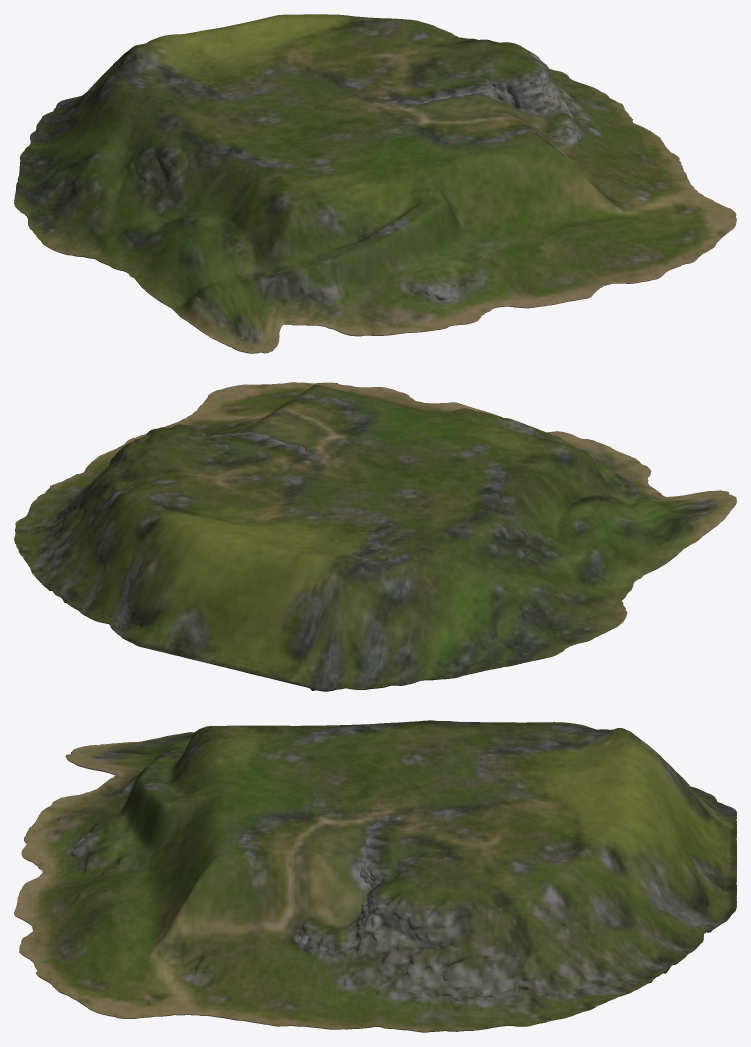
3 views of the same model, one above another, from view 1: azimuth 30°, elevation 25°; view 2: azimuth 150°, elevation 25°; view 3: azimuth 270°, elevation 25° (orthographic). The views are drawn at different scales.
Visible parts, largest first — view 1: Mesh_0; view 2: Mesh_0; view 3: Mesh_0.
Part boxes in pixels (x1=…): Mesh_0: x1=14, y1=14, x2=736, y2=353; Mesh_0: x1=14, y1=382, x2=736, y2=691; Mesh_0: x1=14, y1=720, x2=736, y2=1032.
Size of the model in its own units: 280 by 43.85 by 280.
1 material, 1 textured.
